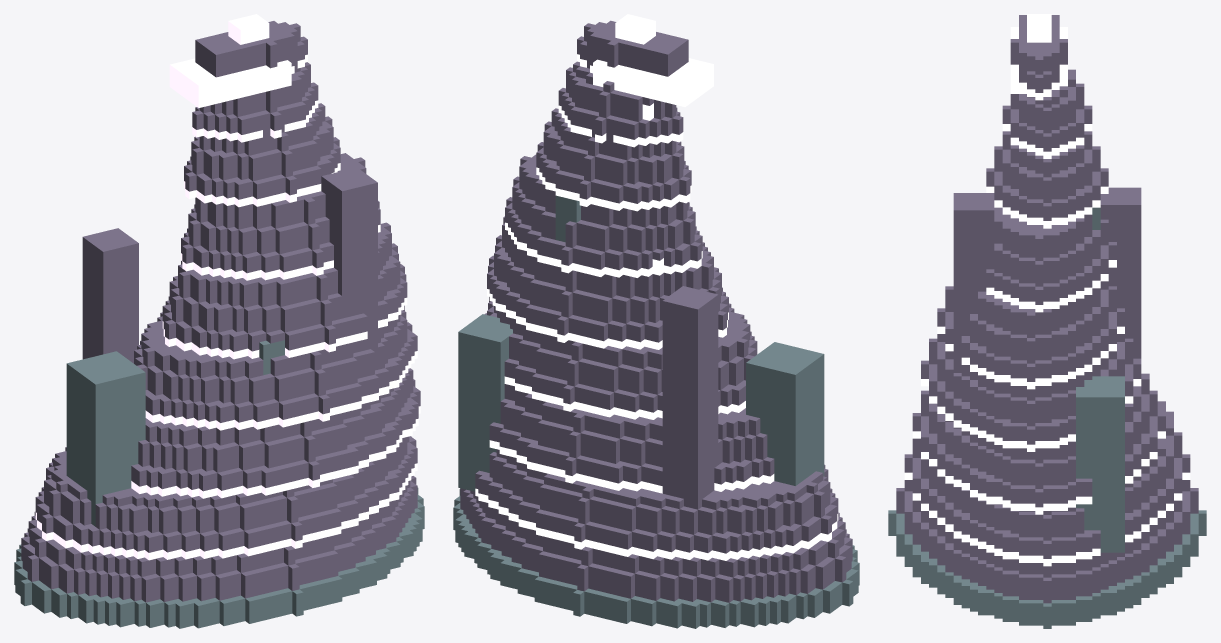
Rendered from crag_unbreakable_spire.glb.
3 views of the same model, side by side, from view 1: azimuth 30°, elevation 25°; view 2: azimuth 150°, elevation 25°; view 3: azimuth 270°, elevation 25° (orthographic).
Parts seen in each view (by area): view 1: CragUnbreakableSpireSurface; view 2: CragUnbreakableSpireSurface; view 3: CragUnbreakableSpireSurface.
Boxes of the visible parts, x1,y1,x2,y2 form: CragUnbreakableSpireSurface: (14,14,424,628); CragUnbreakableSpireSurface: (453,14,859,628); CragUnbreakableSpireSurface: (888,14,1206,628).
Size of the model in its own units: 6.88 by 8.88 by 4.88.
